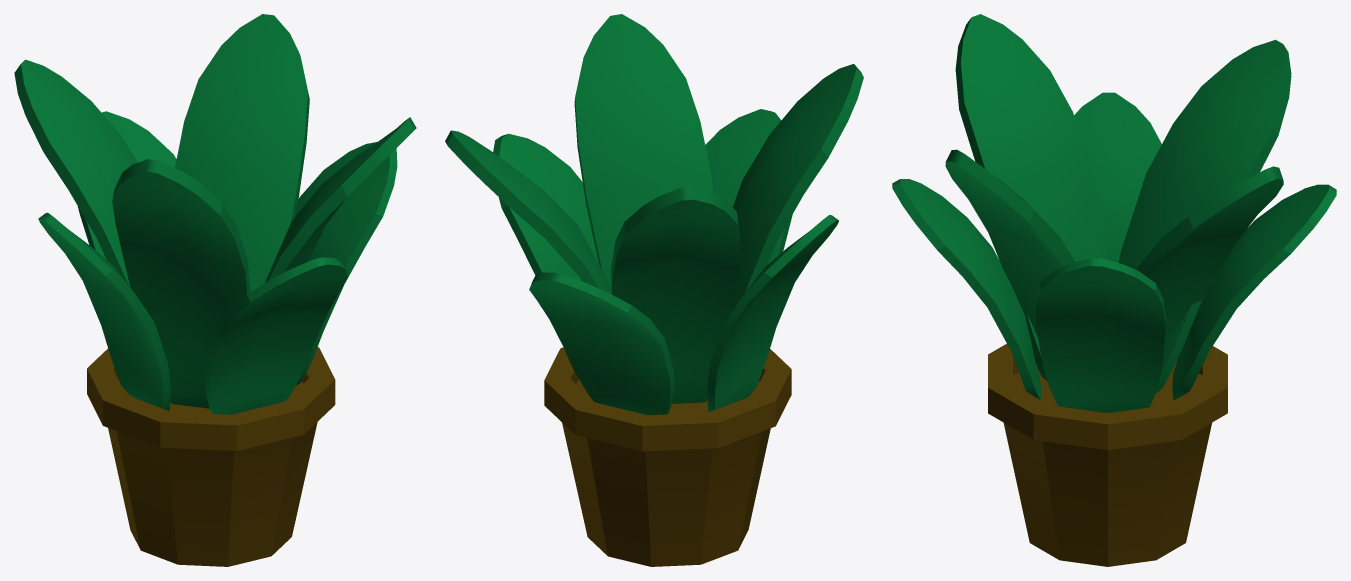
The model's file is Potted_Plant.fbx.
3 views of the same model, side by side, from view 1: azimuth 30°, elevation 25°; view 2: azimuth 150°, elevation 25°; view 3: azimuth 270°, elevation 25° (orthographic).
Parts seen in each view (by area): view 1: pCylinder4; view 2: pCylinder4; view 3: pCylinder4.
Part boxes in pixels (x1,y1,x2,y2): pCylinder4: [14, 14, 416, 566]; pCylinder4: [445, 14, 863, 566]; pCylinder4: [892, 14, 1336, 566].
Size of the model in its own units: 4.88 by 6.13 by 5.41.
